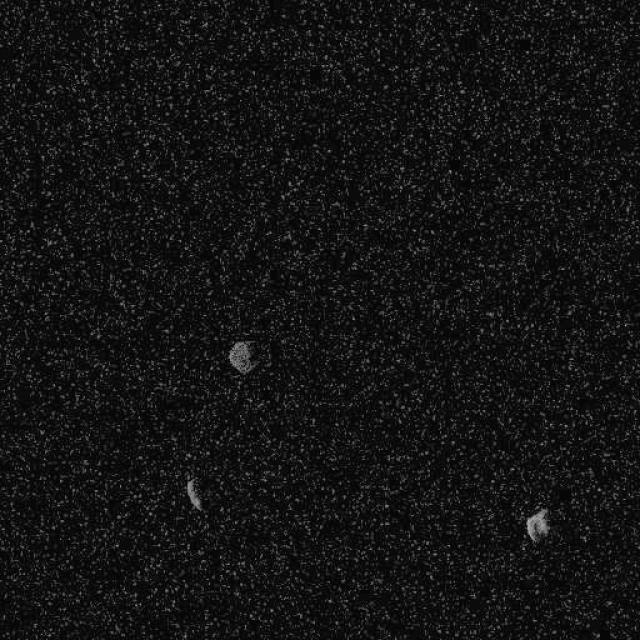D2: (226, 339, 258, 375), (525, 507, 550, 542), (184, 476, 202, 512)
